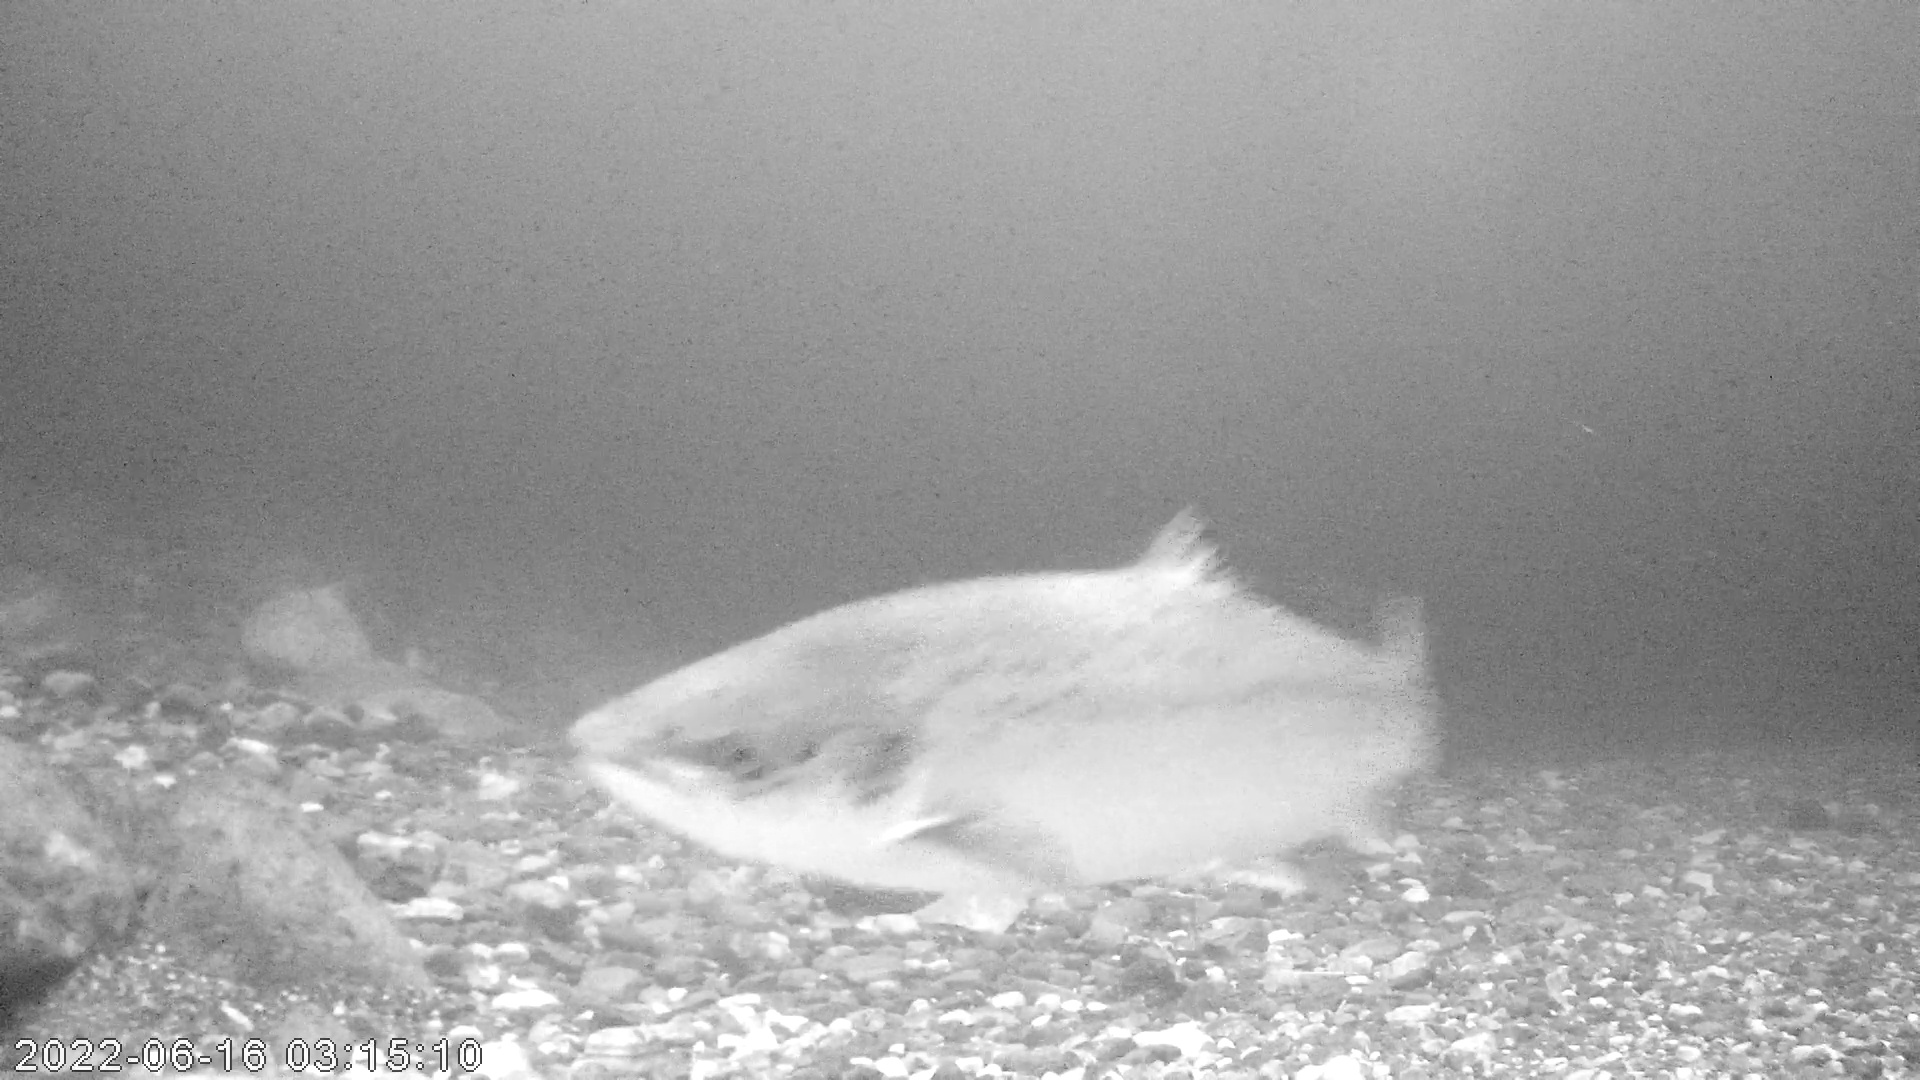salmon: (563, 506, 1440, 897)
